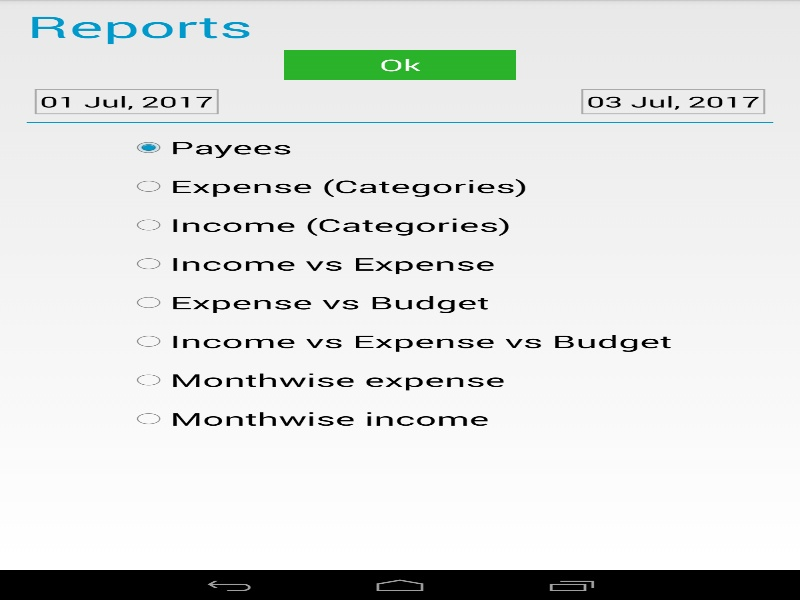Input: (34, 89, 218, 114), (581, 89, 765, 114)
